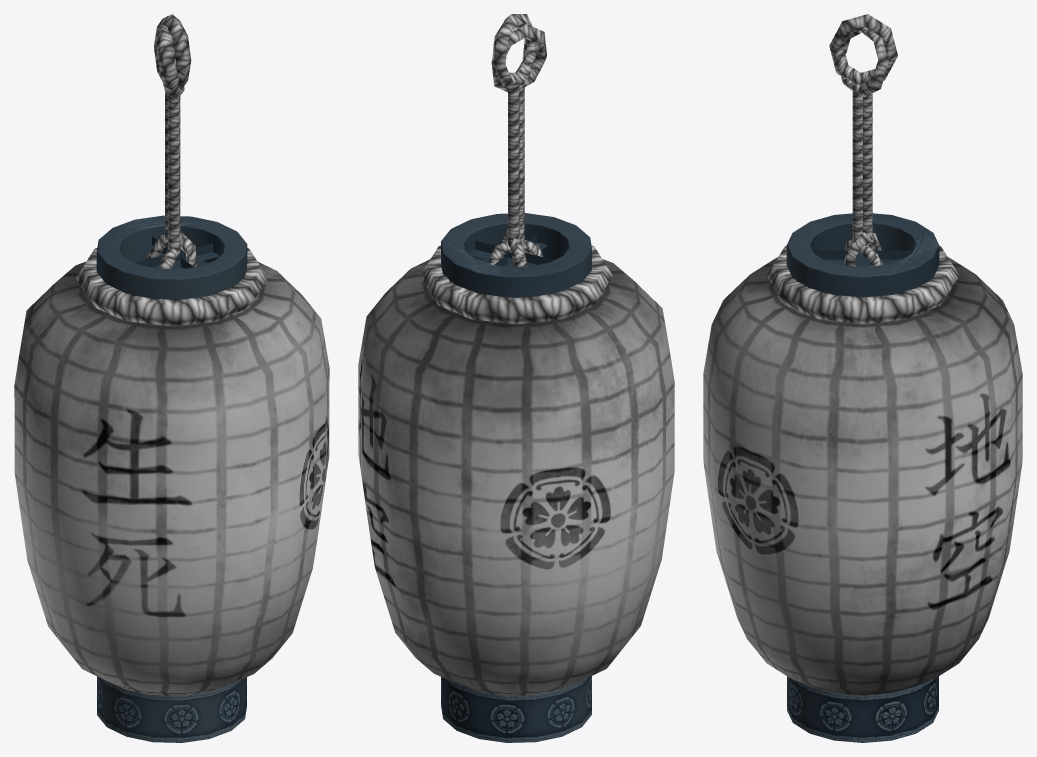
Rendered from SM_Chochin_lamp.fbx.
The picture shows the model from 3 angles, left to right: view 1: azimuth 30°, elevation 25°; view 2: azimuth 150°, elevation 25°; view 3: azimuth 270°, elevation 25°; orthographic projection.
Parts seen in each view (by area): view 1: SM_Chochin_lamp_LOD0; view 2: SM_Chochin_lamp_LOD0; view 3: SM_Chochin_lamp_LOD0.
Part boxes in pixels (x1=…): SM_Chochin_lamp_LOD0: x1=14, y1=14, x2=329, y2=742; SM_Chochin_lamp_LOD0: x1=358, y1=14, x2=674, y2=742; SM_Chochin_lamp_LOD0: x1=703, y1=14, x2=1022, y2=742.
Bounding box in the file's own units: 43.72 × 43.72 × 106.
